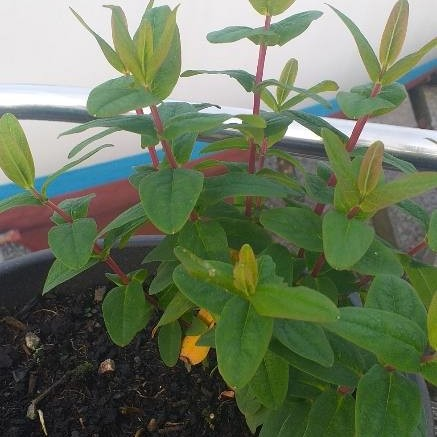obstacle: (57, 11, 425, 432)
